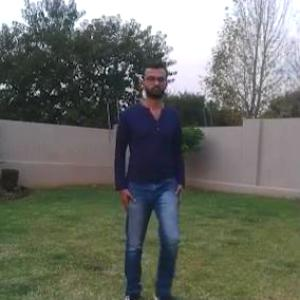follow: (121, 68, 185, 290)
